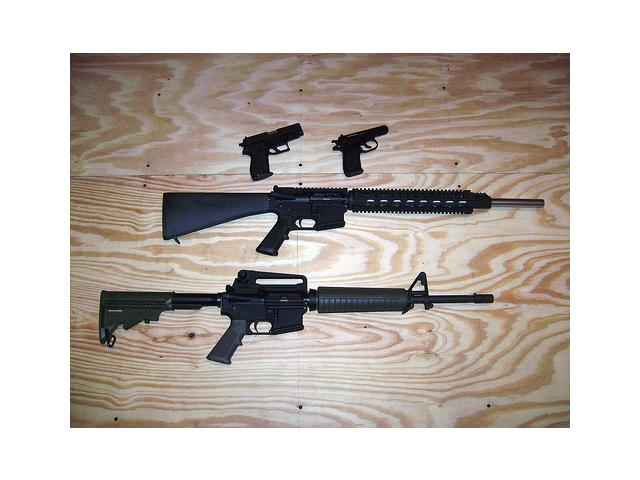rifle: (95, 267, 495, 364), (158, 184, 553, 260)
